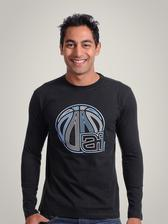clothoes: (17, 73, 145, 220)
